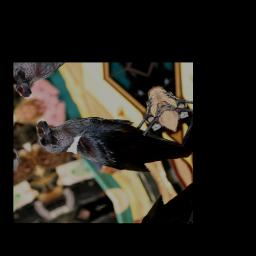Crow: (28, 73, 188, 210)
